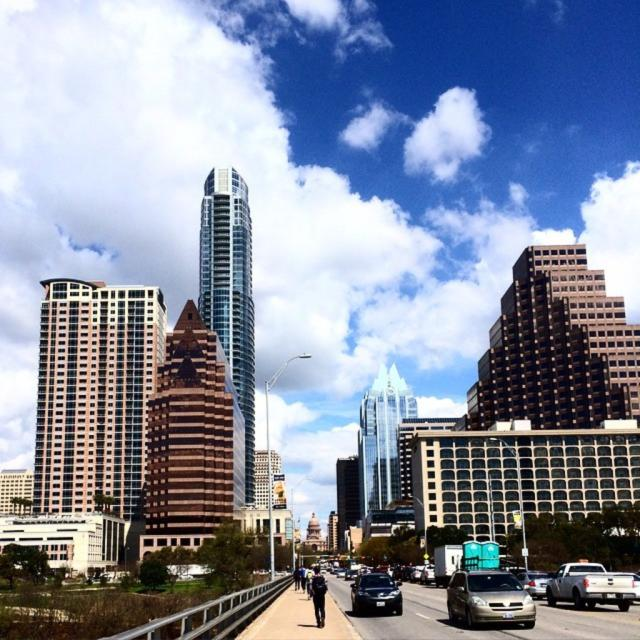car: (444, 570, 536, 627), (350, 572, 402, 613)
